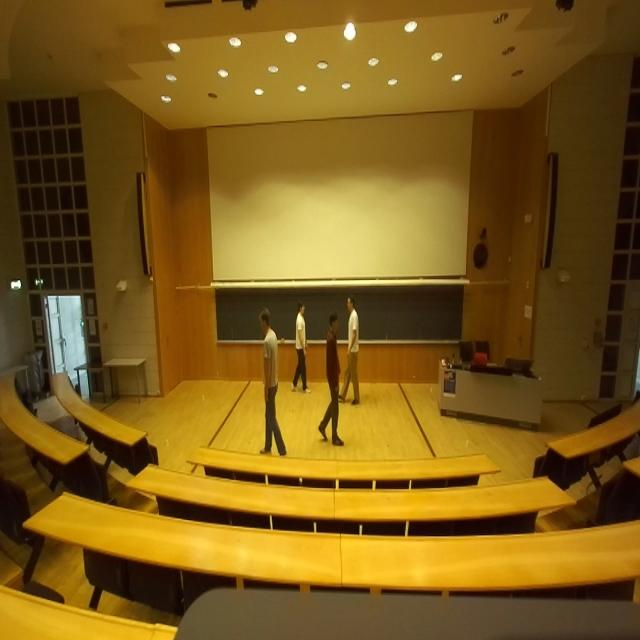person: (259, 308, 286, 455), (318, 311, 344, 445), (338, 295, 360, 405), (291, 300, 311, 394)
